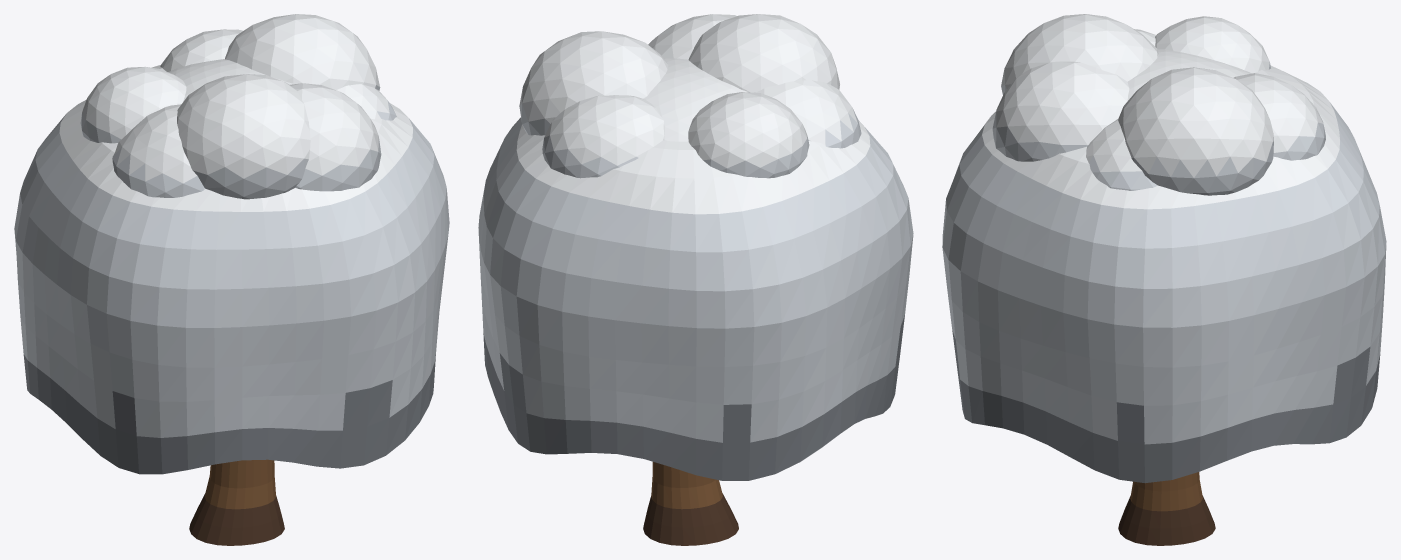
The model's file is WillowTree.obj.
The picture shows the model from 3 angles, left to right: view 1: azimuth 30°, elevation 25°; view 2: azimuth 150°, elevation 25°; view 3: azimuth 270°, elevation 25°; orthographic projection.
Bounding box in the file's own units: 10.2 × 12.51 × 10.28.
